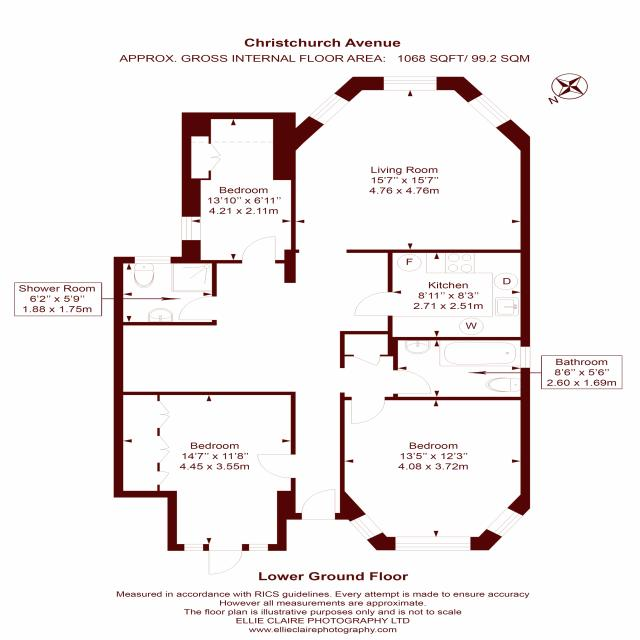DOOR: (300, 489, 337, 521), (255, 453, 298, 480), (208, 543, 243, 575), (391, 369, 434, 395), (349, 396, 387, 425), (353, 291, 395, 317), (177, 296, 218, 321), (241, 236, 276, 264)
ROOM: (272, 75, 531, 253), (113, 391, 297, 575), (339, 396, 531, 551), (181, 112, 296, 264), (353, 249, 530, 341)
WINDOW: (466, 93, 513, 129), (307, 92, 350, 126), (484, 506, 525, 539), (394, 536, 472, 551), (348, 512, 385, 541), (382, 76, 438, 91), (181, 216, 201, 241), (133, 256, 172, 264), (519, 346, 531, 369), (248, 543, 270, 552), (184, 544, 204, 551)
